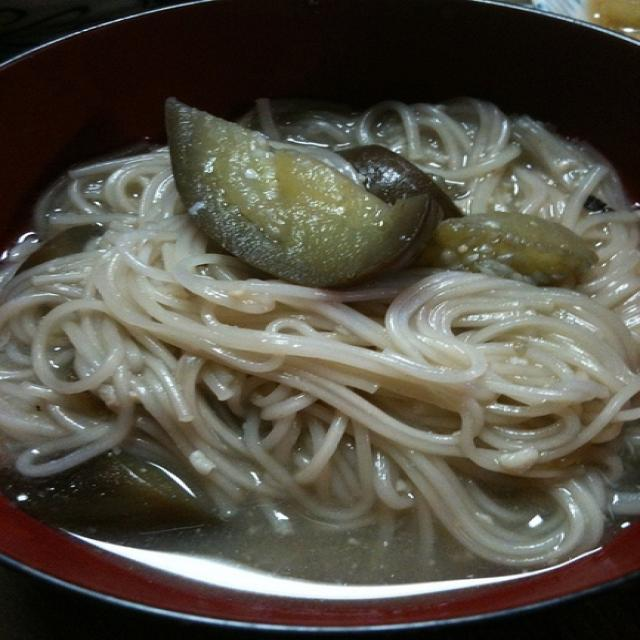面条主食: (12, 8, 625, 618)
